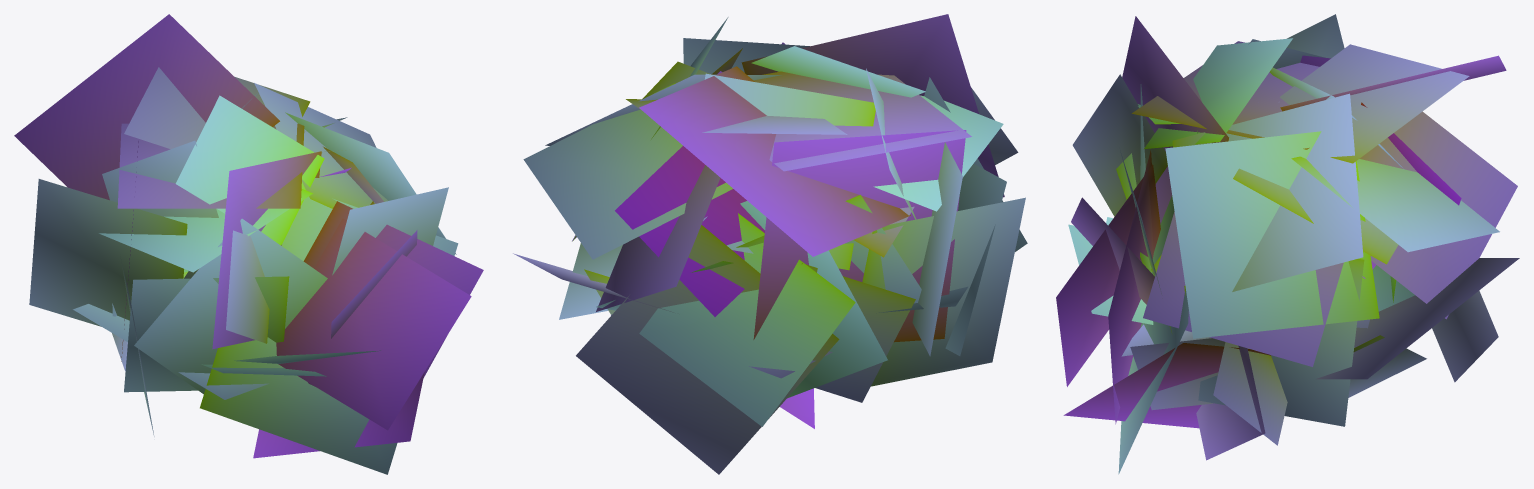
Rendered from tree_azalea_b_bloom_lod1.glb.
3 views of the same model, side by side, from view 1: azimuth 30°, elevation 25°; view 2: azimuth 150°, elevation 25°; view 3: azimuth 270°, elevation 25° (orthographic). The views are drawn at different scales.
Parts seen in each view (by area): view 1: tree_azalea_b_bloom_lod1; view 2: tree_azalea_b_bloom_lod1; view 3: tree_azalea_b_bloom_lod1.
Boxes of the visible parts, left/top/right/bottom form: tree_azalea_b_bloom_lod1: left=14, top=14, right=483, bottom=474; tree_azalea_b_bloom_lod1: left=513, top=14, right=1027, bottom=474; tree_azalea_b_bloom_lod1: left=1056, top=14, right=1519, bottom=474.
Bounding box in the file's own units: 1.88 × 1.71 × 1.82.
